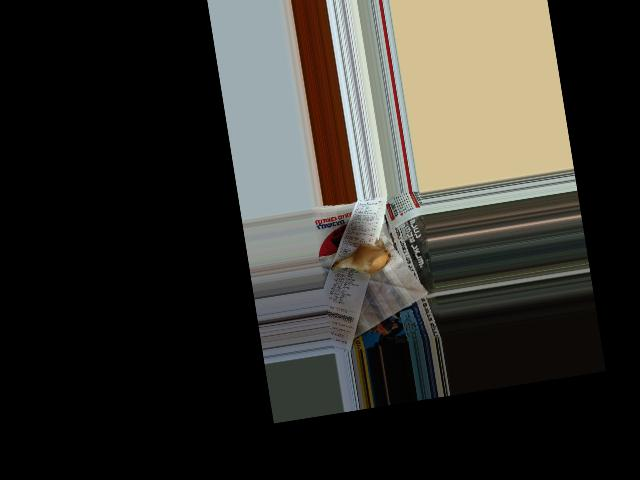onion: (344, 242, 391, 279)
